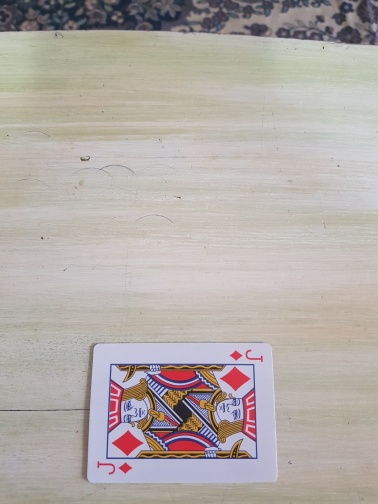jack: (86, 342, 280, 485)
